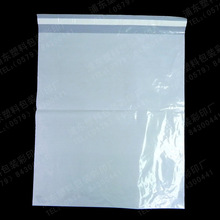Parcel: (32, 13, 189, 209)
